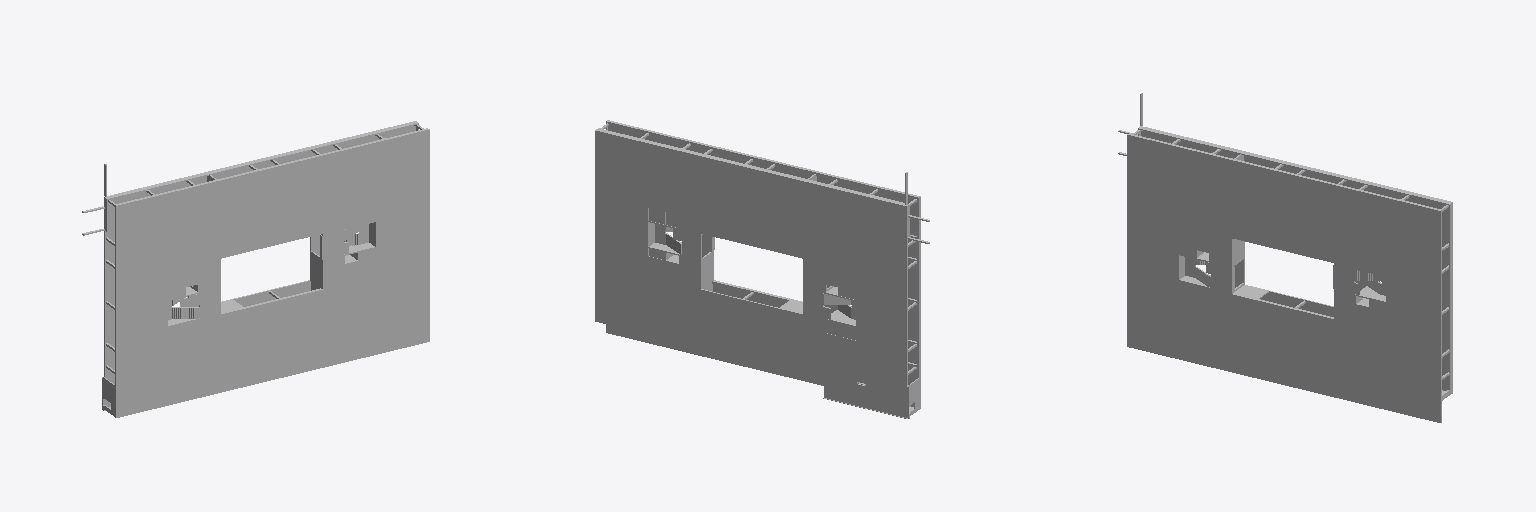
File: building.obj
3 renders of one model, left to right at view 1: azimuth 30°, elevation 25°; view 2: azimuth 150°, elevation 25°; view 3: azimuth 330°, elevation 25°, orthographic.
Parts seen in each view (by area): view 1: SZBB_RoomPlan.170, SZBB_RoomPlan.031, SZBB_RoomPlan.172, SZBB_RoomPlan.171, SZBB_RoomPlan.119; view 2: SZBB_RoomPlan.031, SZBB_RoomPlan.170, SZBB_RoomPlan.096, SZBB_RoomPlan.095, SZBB_RoomPlan.147, SZBB_RoomPlan.119, SZBB_RoomPlan.145; view 3: SZBB_RoomPlan.170, SZBB_RoomPlan.031, SZBB_RoomPlan.171, SZBB_RoomPlan.172, SZBB_RoomPlan.119, SZBB_RoomPlan.120.
Part boxes in pixels (bbox=[...]): SZBB_RoomPlan.170: bbox=[115, 129, 429, 417]; SZBB_RoomPlan.031: bbox=[103, 121, 415, 406]; SZBB_RoomPlan.172: bbox=[322, 206, 376, 303]; SZBB_RoomPlan.171: bbox=[167, 244, 220, 341]; SZBB_RoomPlan.119: bbox=[106, 121, 418, 199]; SZBB_RoomPlan.031: bbox=[595, 130, 907, 417]; SZBB_RoomPlan.170: bbox=[606, 120, 920, 408]; SZBB_RoomPlan.096: bbox=[647, 206, 701, 303]; SZBB_RoomPlan.095: bbox=[803, 244, 856, 341]; SZBB_RoomPlan.147: bbox=[607, 121, 916, 199]; SZBB_RoomPlan.119: bbox=[596, 128, 906, 205]; SZBB_RoomPlan.145: bbox=[917, 197, 919, 408]; SZBB_RoomPlan.170: bbox=[1127, 134, 1441, 422]; SZBB_RoomPlan.031: bbox=[1140, 126, 1452, 393]; SZBB_RoomPlan.171: bbox=[1178, 211, 1232, 308]; SZBB_RoomPlan.172: bbox=[1334, 249, 1387, 346]; SZBB_RoomPlan.119: bbox=[1139, 127, 1451, 204]; SZBB_RoomPlan.120: bbox=[1449, 204, 1451, 389].
Size of the model in its own units: 70.4 by 49.45 by 4.78.